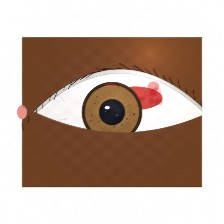hemorrhage_spot: (98, 68, 173, 128)
